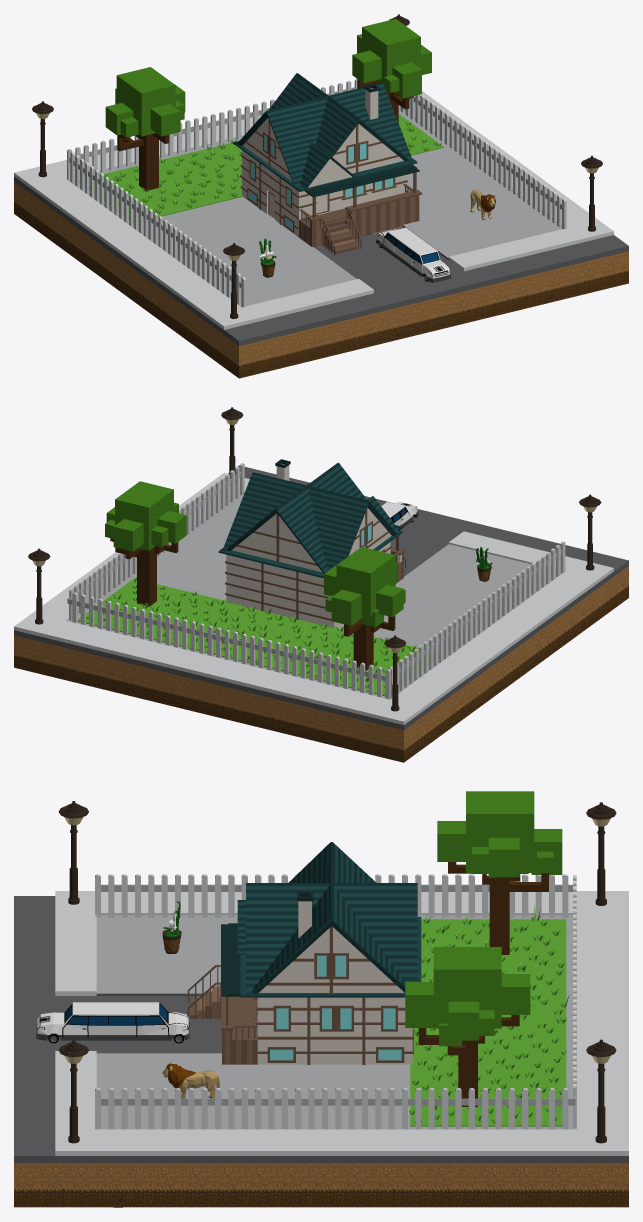
3 renders of one model, top to bottom at view 1: azimuth 30°, elevation 25°; view 2: azimuth 150°, elevation 25°; view 3: azimuth 270°, elevation 25°, orthographic. The views are drawn at different scales.
Parts seen in each view (by area): view 1: Cube.004, Cube.793, VEHICLES_LIMOUSINE, ANIMAL_LEON; view 2: Cube.004, Cube.793, VEHICLES_LIMOUSINE; view 3: Cube.004, Cube.793, VEHICLES_LIMOUSINE, ANIMAL_LEON, OBJRANDOM_MONJA BLANCA.
Boxes of the visible parts, left/top/right/bottom form: Cube.004: left=14, top=14, right=628, bottom=378; Cube.793: left=233, top=73, right=422, bottom=255; VEHICLES_LIMOUSINE: left=375, top=227, right=451, bottom=282; ANIMAL_LEON: left=470, top=189, right=495, bottom=219; Cube.004: left=14, top=407, right=628, bottom=762; Cube.793: left=218, top=459, right=406, bottom=627; VEHICLES_LIMOUSINE: left=381, top=502, right=418, bottom=527; Cube.004: left=14, top=791, right=628, bottom=1207; Cube.793: left=187, top=842, right=421, bottom=1064; VEHICLES_LIMOUSINE: left=36, top=1002, right=189, bottom=1043; ANIMAL_LEON: left=162, top=1062, right=219, bottom=1098; OBJRANDOM_MONJA BLANCA: left=162, top=901, right=181, bottom=953.
Size of the model in its own units: 4000 by 1574 by 4000.
Materials: 31 (4 with a texture image).
